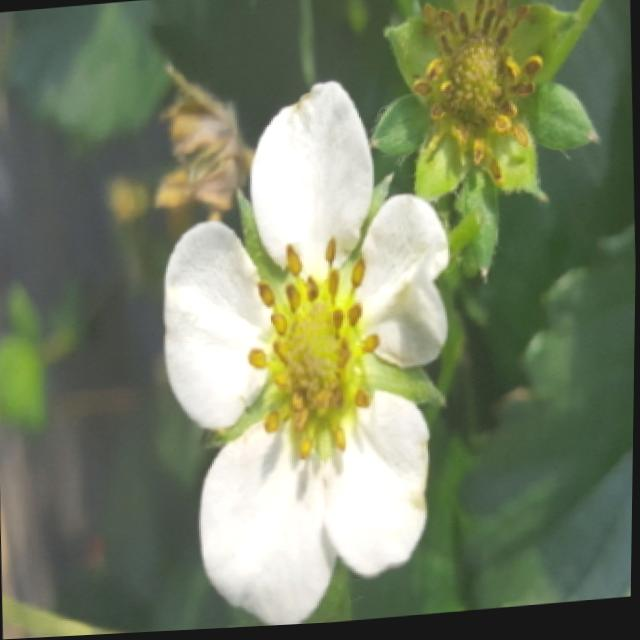Blossom Blight: (242, 235, 390, 468), (405, 0, 546, 185)
